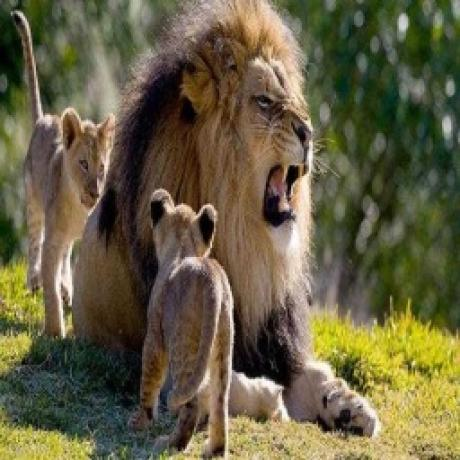Lion: (82, 0, 377, 438), (7, 6, 115, 334), (140, 185, 229, 455)
